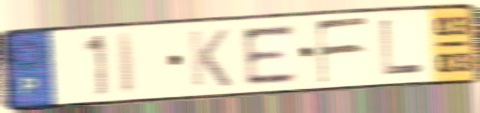1: (81, 32, 112, 98)
E: (238, 22, 302, 88)
F: (313, 14, 371, 86)
I: (115, 30, 139, 96)
K: (186, 27, 234, 89)
L: (378, 17, 426, 77)
